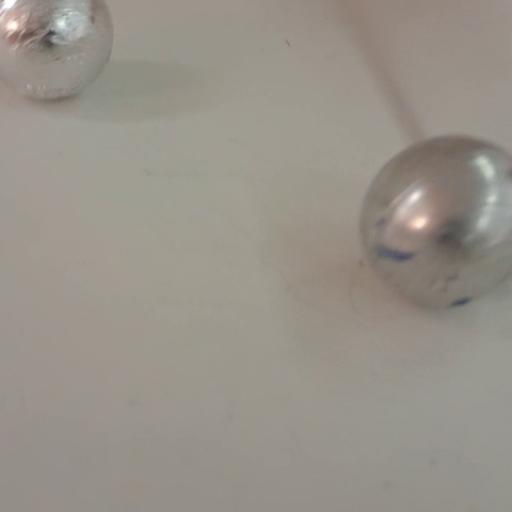alive: (353, 132, 512, 312), (0, 2, 114, 100)
